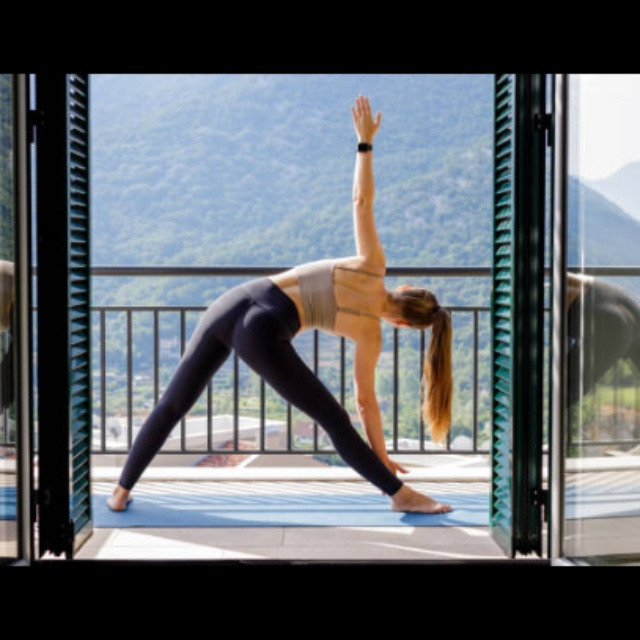Triangle_Pose: (103, 94, 469, 527)
